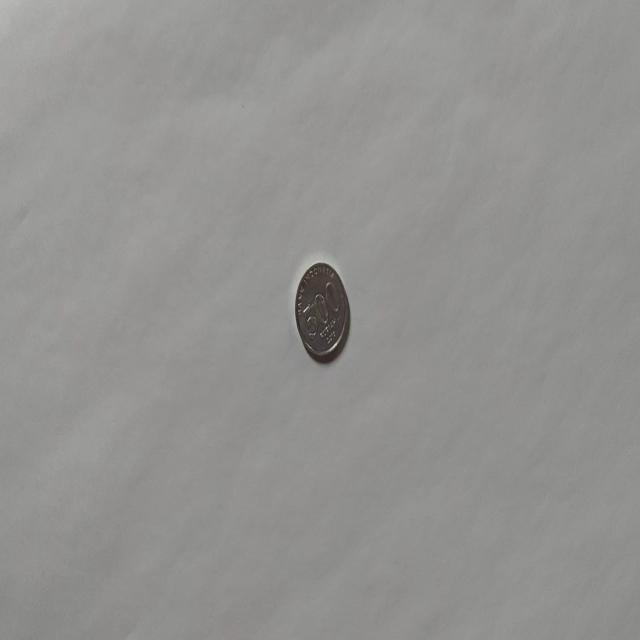lima ratus rupiah: (294, 260, 350, 362)
